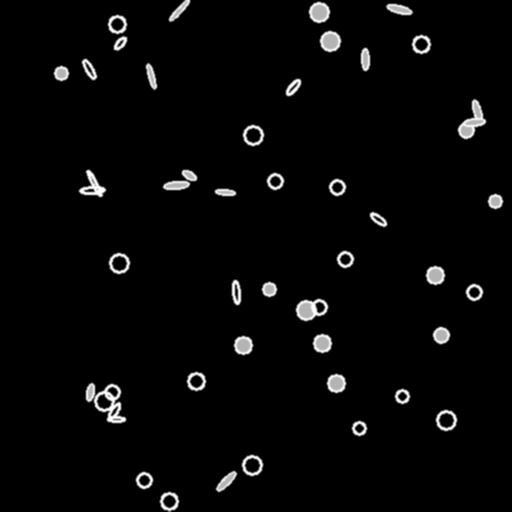pseudomonas: (85, 169, 103, 197), (215, 470, 237, 492), (168, 0, 190, 22), (81, 58, 97, 80), (284, 78, 302, 96), (386, 3, 412, 15), (145, 63, 157, 89), (471, 99, 483, 123), (369, 211, 387, 227), (112, 35, 128, 51), (107, 402, 121, 420), (164, 180, 188, 190), (181, 168, 197, 182), (231, 281, 241, 303), (79, 186, 105, 194), (85, 384, 95, 400), (464, 118, 484, 126), (362, 48, 368, 70), (215, 189, 235, 195), (108, 416, 124, 422)
synechocystis: (297, 301, 315, 319), (310, 3, 328, 21), (110, 254, 128, 272), (95, 392, 113, 410), (321, 32, 339, 50), (243, 456, 261, 474), (244, 126, 262, 144), (437, 411, 455, 429), (161, 493, 177, 509), (413, 36, 429, 52), (328, 375, 344, 391), (109, 16, 125, 32), (235, 337, 251, 353), (314, 335, 330, 351), (427, 267, 443, 283), (188, 373, 204, 389), (338, 252, 352, 266), (459, 123, 473, 137), (268, 174, 282, 188), (105, 385, 119, 399), (312, 300, 326, 314), (330, 180, 344, 194), (137, 473, 151, 487), (434, 328, 448, 342), (467, 285, 481, 299), (396, 390, 408, 402), (55, 67, 67, 79), (263, 283, 275, 295), (353, 422, 365, 434), (489, 195, 501, 207)
